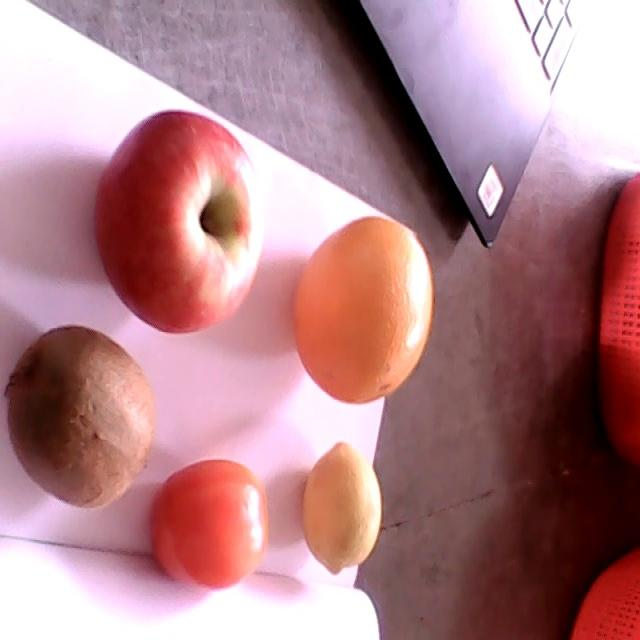apple: (94, 111, 267, 332)
kiwi: (5, 329, 155, 508)
lemon: (301, 444, 381, 574)
orange: (290, 218, 434, 404)
tomato: (149, 461, 269, 587)
